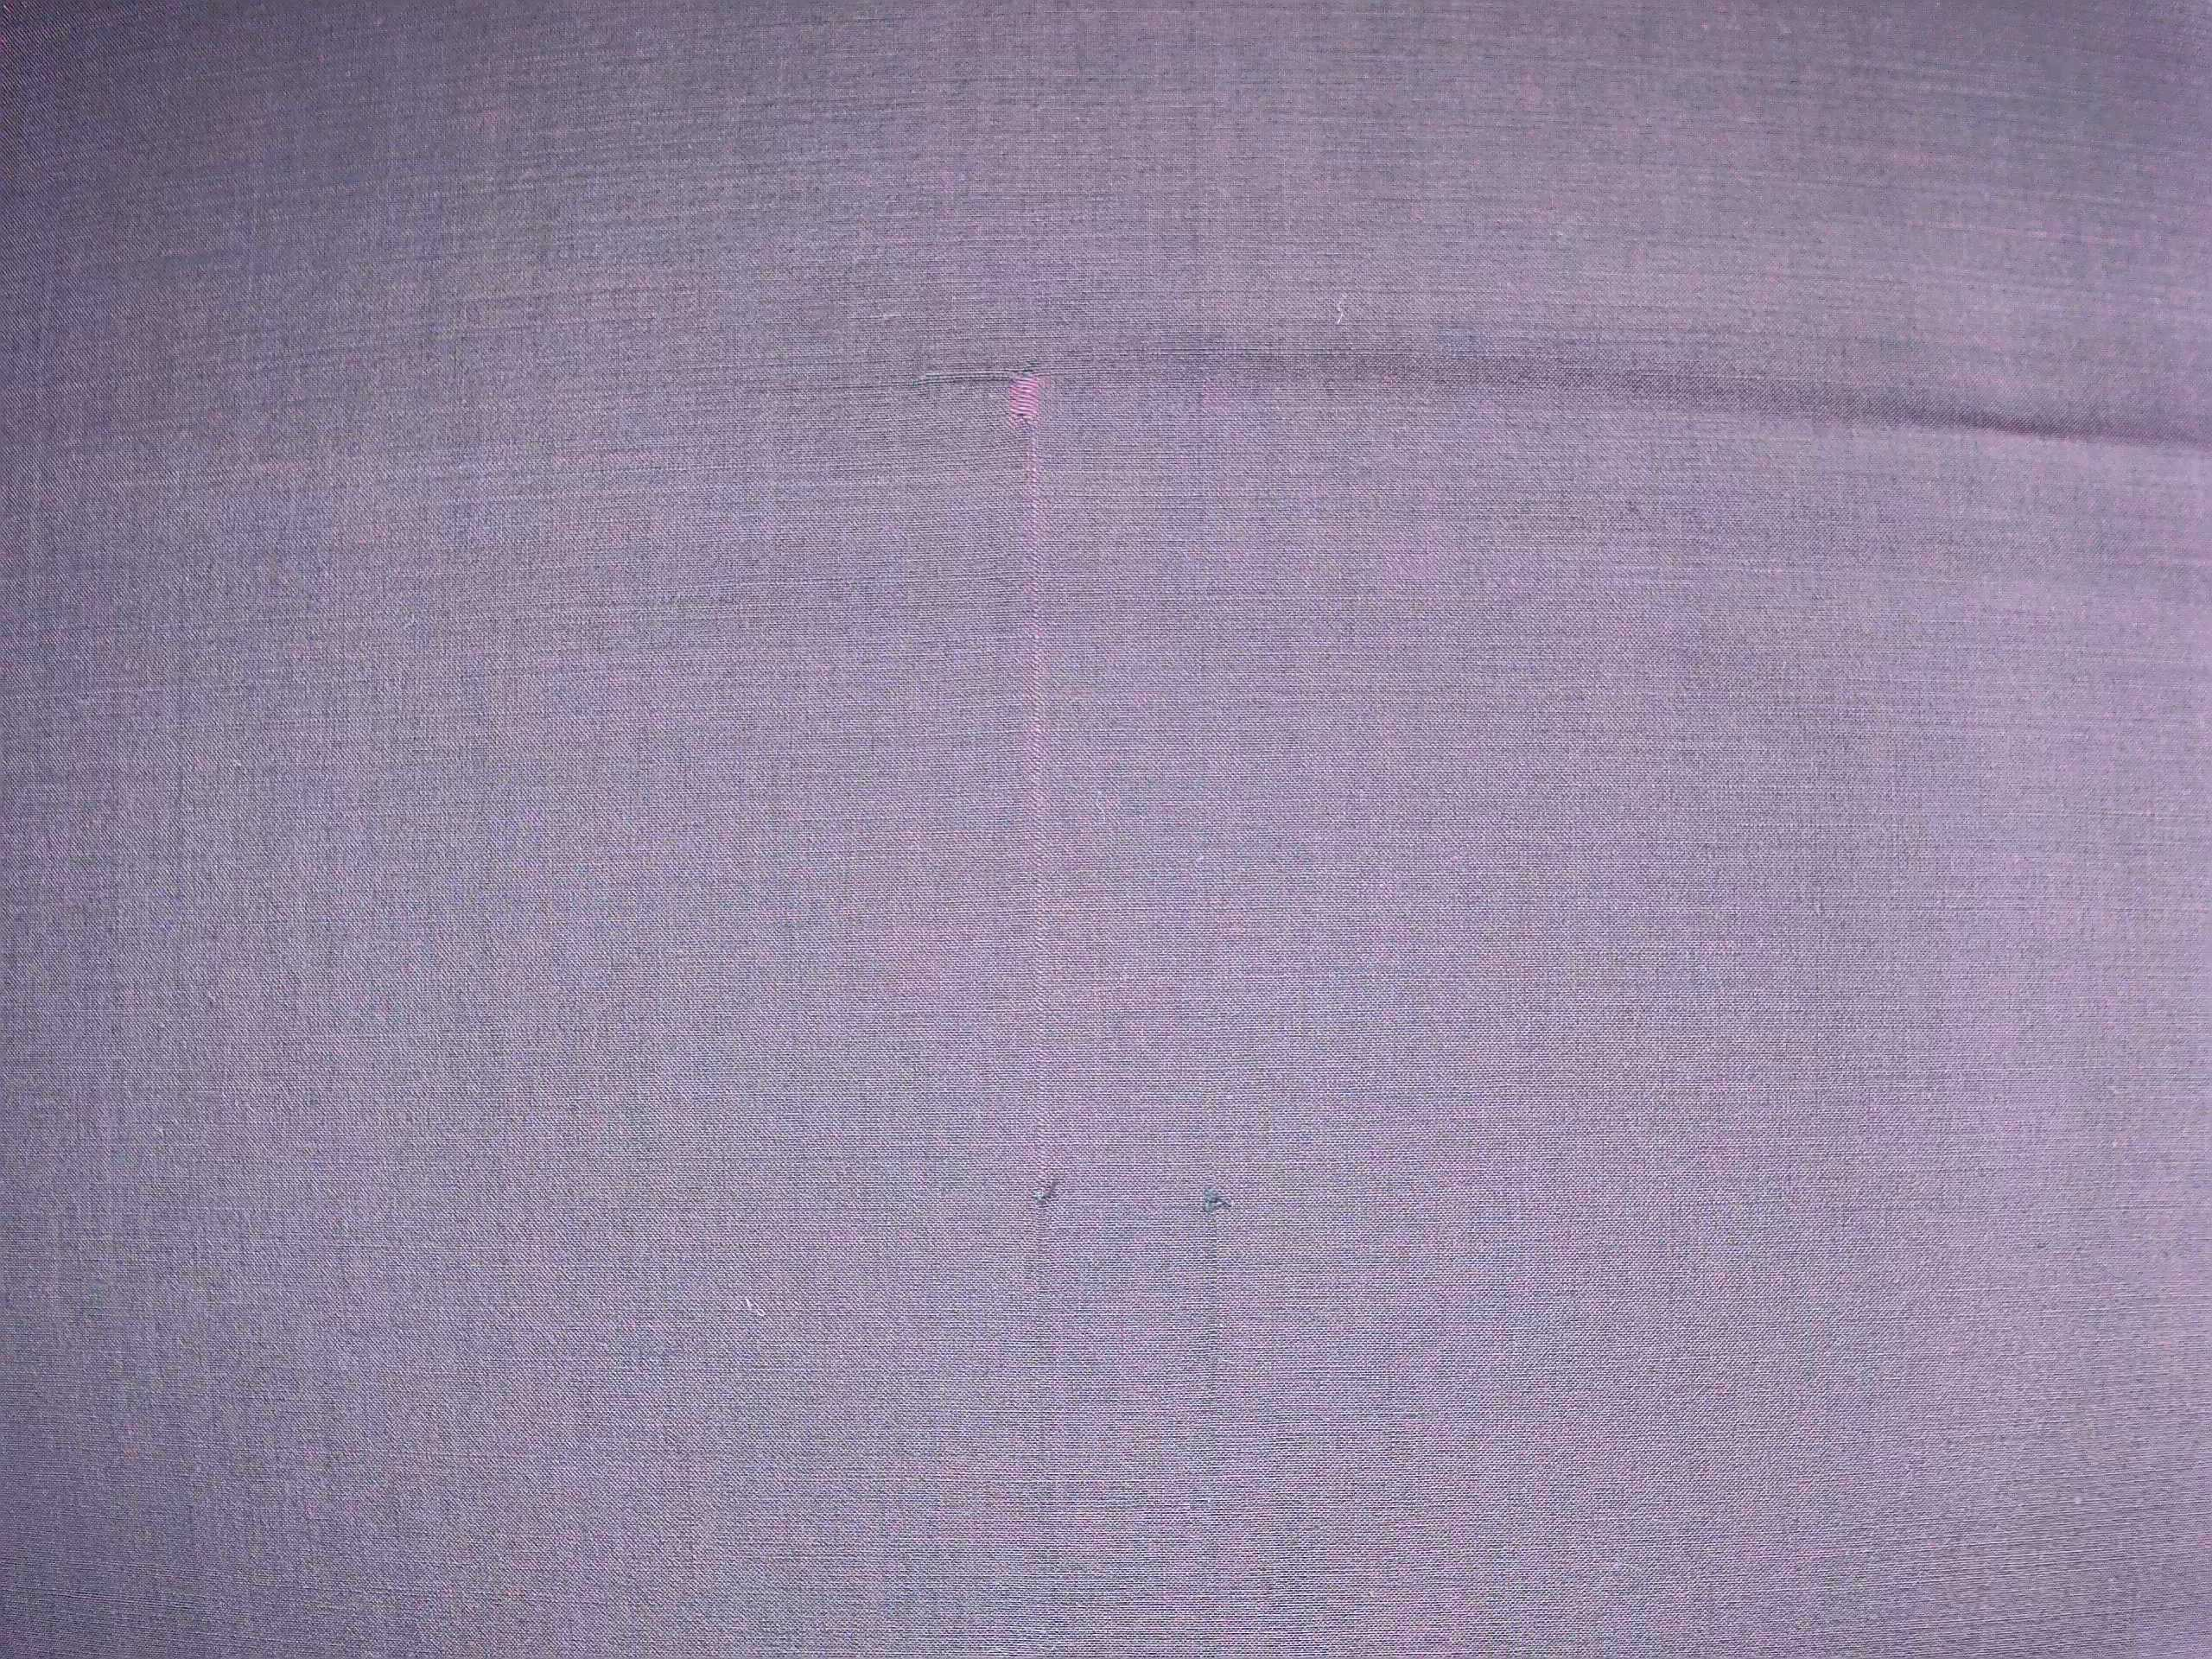jumps: (895, 342, 1071, 441), (1003, 1157, 1083, 1230), (1184, 1171, 1249, 1253)
